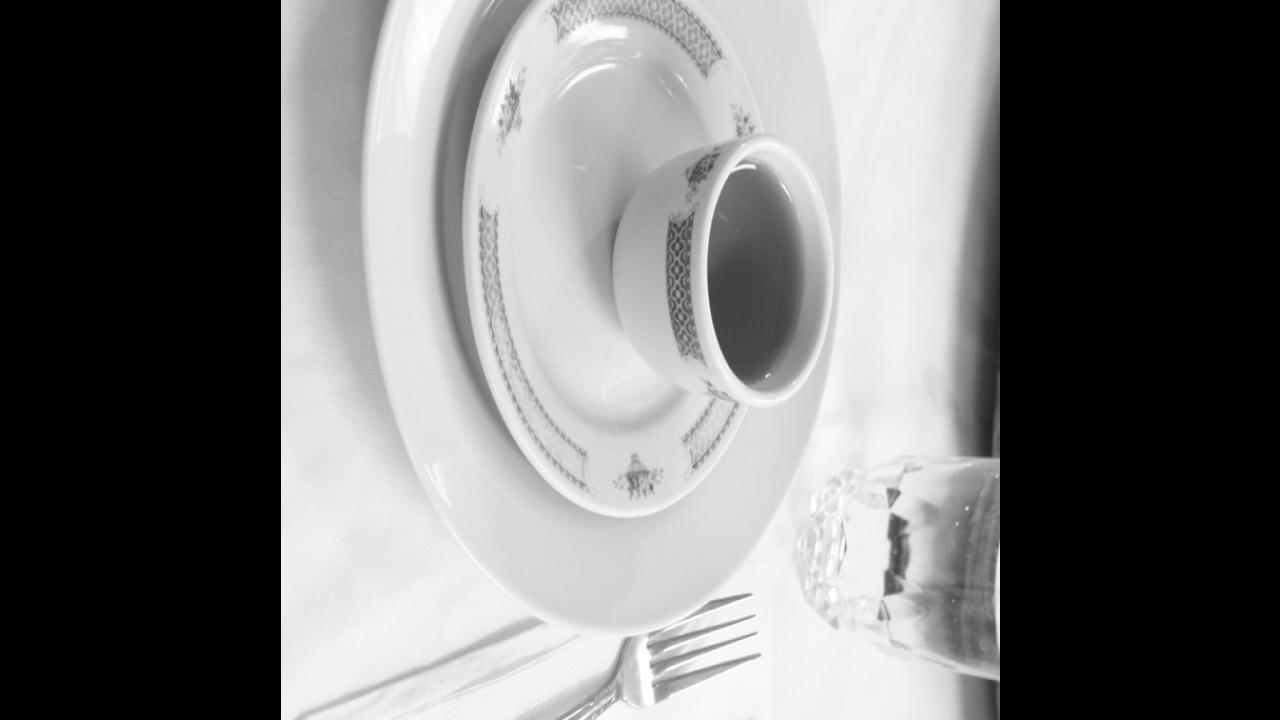fork: (323, 586, 763, 720)
